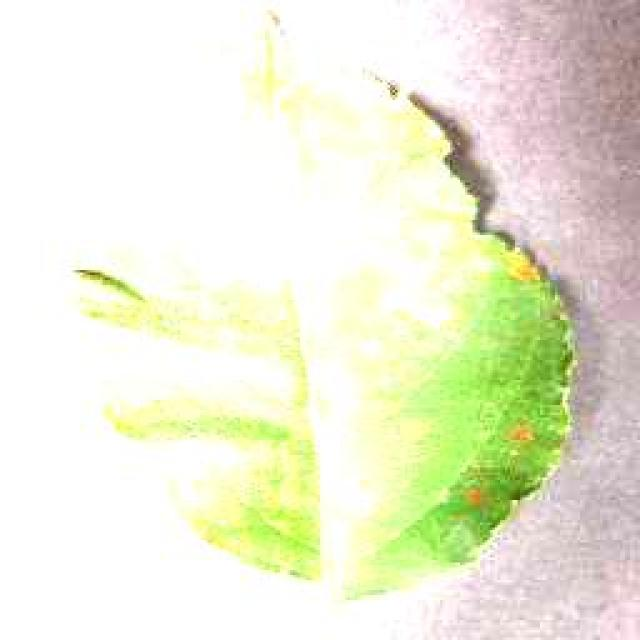apple cedar apple rust: (70, 5, 580, 600)
